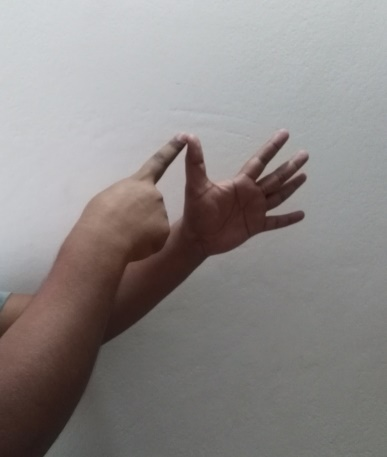a: (73, 126, 312, 292)
